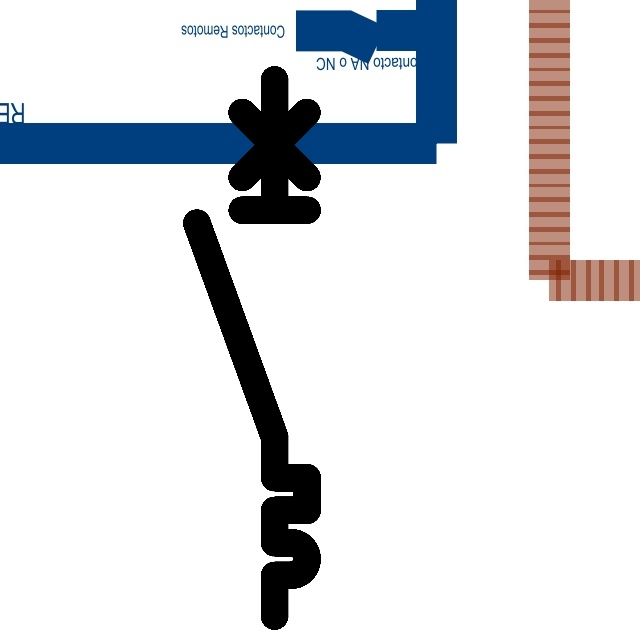interruptor_termomagnetico: (183, 66, 321, 630)
